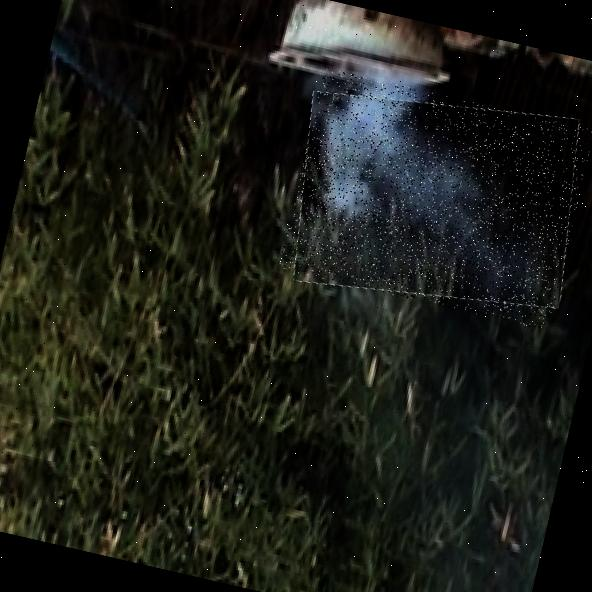smoke: (278, 67, 592, 330)
